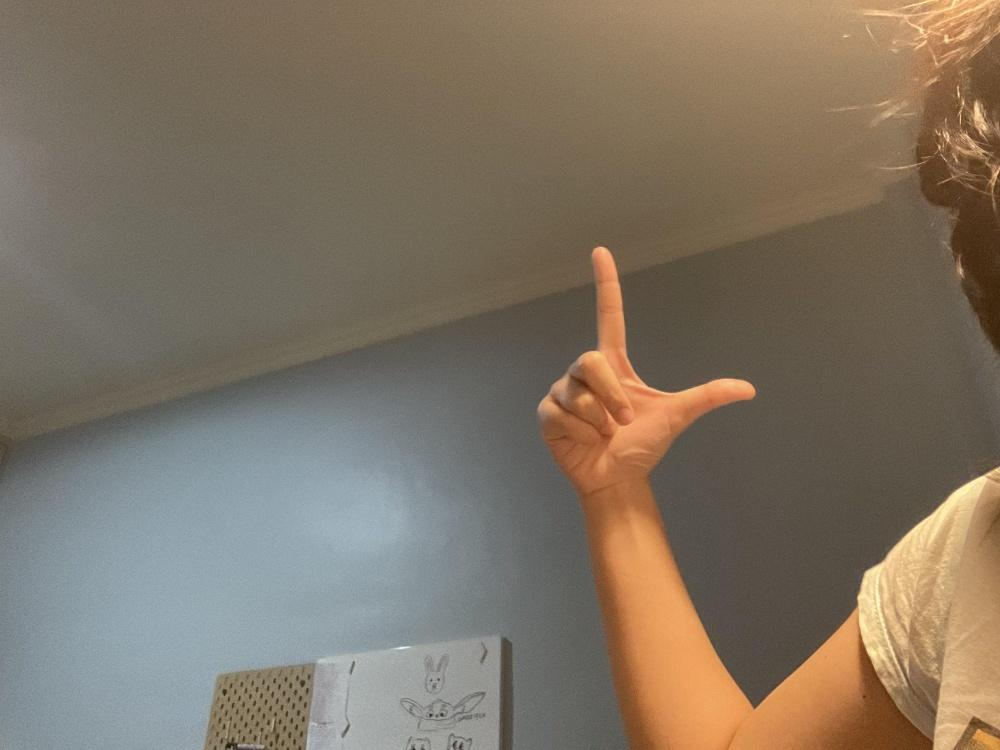l: (536, 245, 755, 492)
